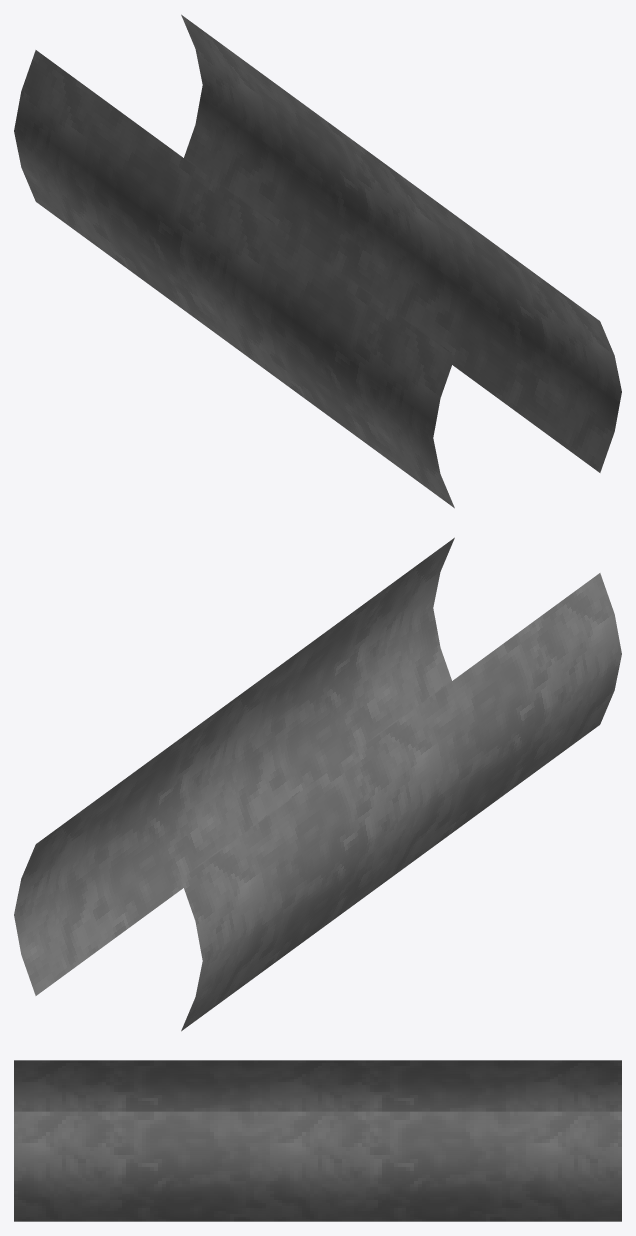
The model's file is FooGuard2WallAIndirect.fbx.
3 views of the same model, one above another, from view 1: azimuth 30°, elevation 25°; view 2: azimuth 150°, elevation 25°; view 3: azimuth 270°, elevation 25° (orthographic). The views are drawn at different scales.
Visible parts, largest first — view 1: FooGuard2WallAIndirect; view 2: FooGuard2WallAIndirect; view 3: FooGuard2WallAIndirect.
Boxes of the visible parts, bbox=[...] form: FooGuard2WallAIndirect: bbox=[14, 14, 621, 508]; FooGuard2WallAIndirect: bbox=[14, 537, 621, 1031]; FooGuard2WallAIndirect: bbox=[14, 1060, 621, 1221].
Bounding box in the file's own units: 259800 × 200000 × 1000000.
Materials: 1 (1 with a texture image).
